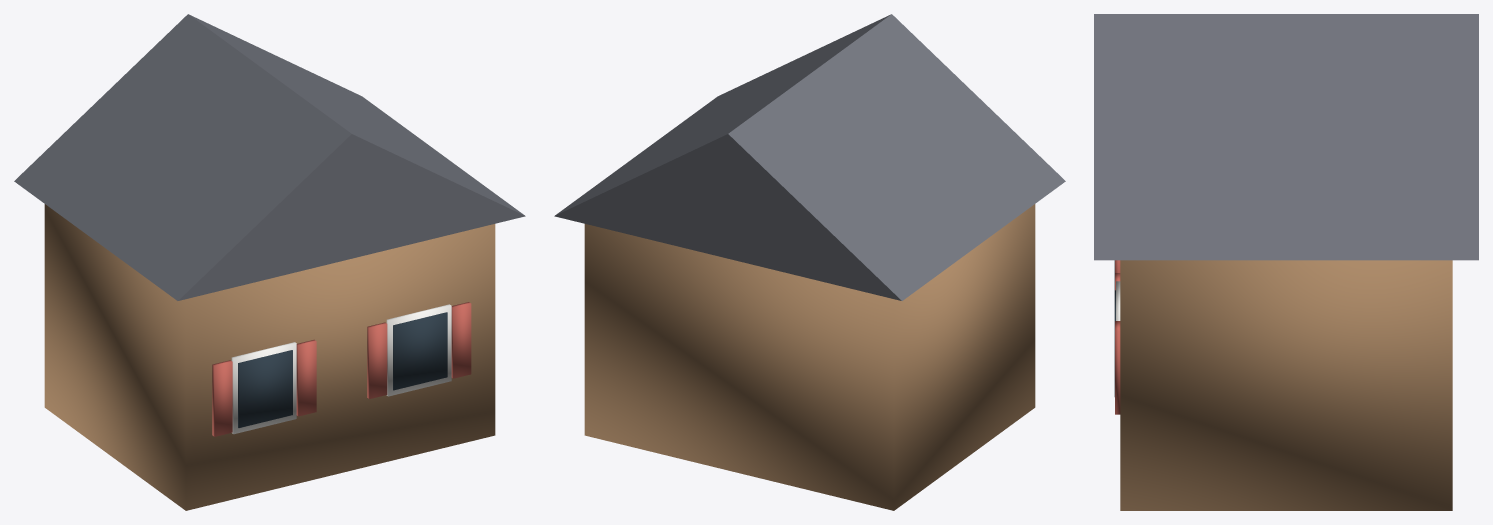
Rendered from Set_AlpineChalet_Hybrid.glb.
3 views of the same model, side by side, from view 1: azimuth 30°, elevation 25°; view 2: azimuth 150°, elevation 25°; view 3: azimuth 270°, elevation 25° (orthographic). The views are drawn at different scales.
Parts seen in each view (by area): view 1: Chalet_Body, Chalet_Roof, WinGls_1.2, WinGls_-1.2, WinFrm_1.2, Shut_1.2_1, Shut_1.2_-1, Shut_-1.2_1, Shut_-1.2_-1, WinFrm_-1.2; view 2: Chalet_Body, Chalet_Roof; view 3: Chalet_Roof, Chalet_Body, Shut_1.2_1.
Boxes of the visible parts, x1,y1,x2,y2 form: Chalet_Body: (44,204,495,510); Chalet_Roof: (14,14,525,300); WinGls_1.2: (393,312,447,390); WinGls_-1.2: (238,350,292,427); WinFrm_1.2: (386,304,451,396); Shut_1.2_1: (451,302,471,378); Shut_1.2_-1: (367,322,387,398); Shut_-1.2_1: (296,339,316,416); Shut_-1.2_-1: (212,360,232,436); WinFrm_-1.2: (231,342,296,434); Chalet_Body: (584,204,1035,510); Chalet_Roof: (554,14,1065,300); Chalet_Roof: (1094,14,1478,260); Chalet_Body: (1120,260,1452,510); Shut_1.2_1: (1115,321,1120,414).
Bounding box in the file's own units: 5.4 × 5.15 × 4.4.
